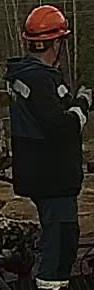gloves: (77, 86, 94, 114)
helmet: (21, 4, 71, 41)
vest: (4, 57, 83, 197)
